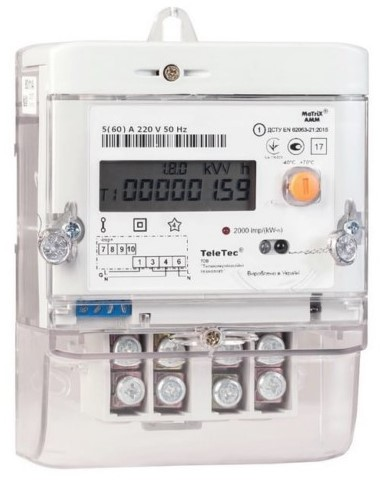counter: (35, 31, 374, 466)
counter_screen: (96, 157, 258, 214)
